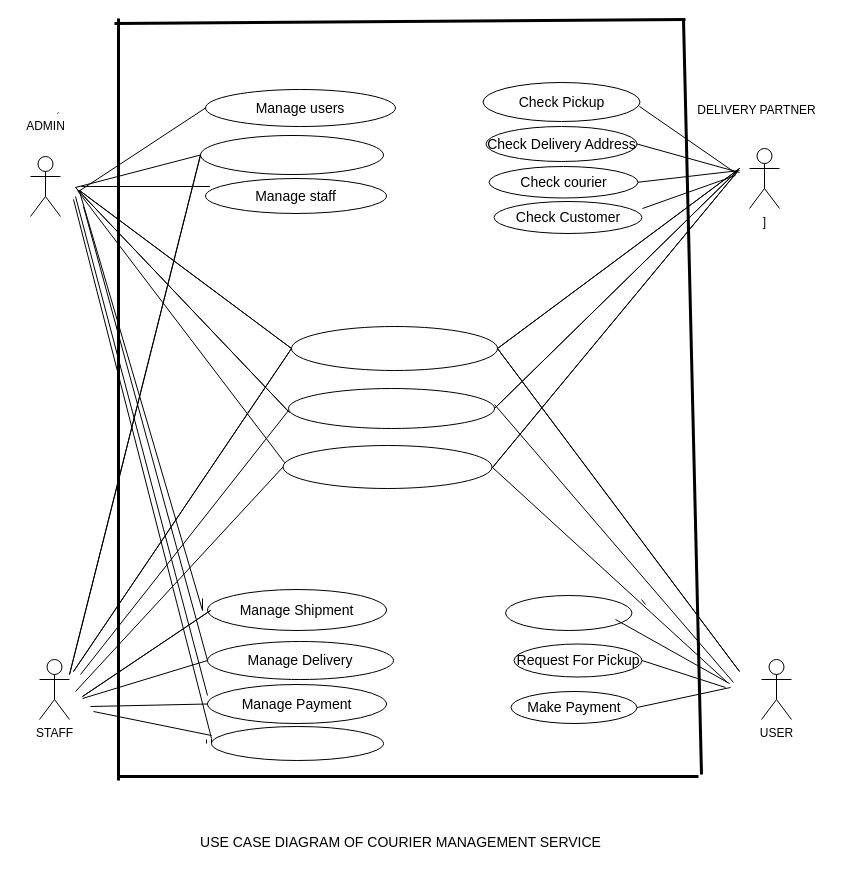
This 842x874 diagram has some shape labels left out. The shapes that lost their labels are listed below. From the top down, each one's box as (x1, y1, x2, y2) in pixels, then its label:
(200, 134, 384, 174): Manage courier
(290, 326, 498, 370): Login and Logout from system
(288, 388, 494, 428): Update My Profile
(282, 444, 492, 488): Change account password
(504, 594, 632, 630): Track Courier
(210, 726, 384, 760): Manage Pickup
